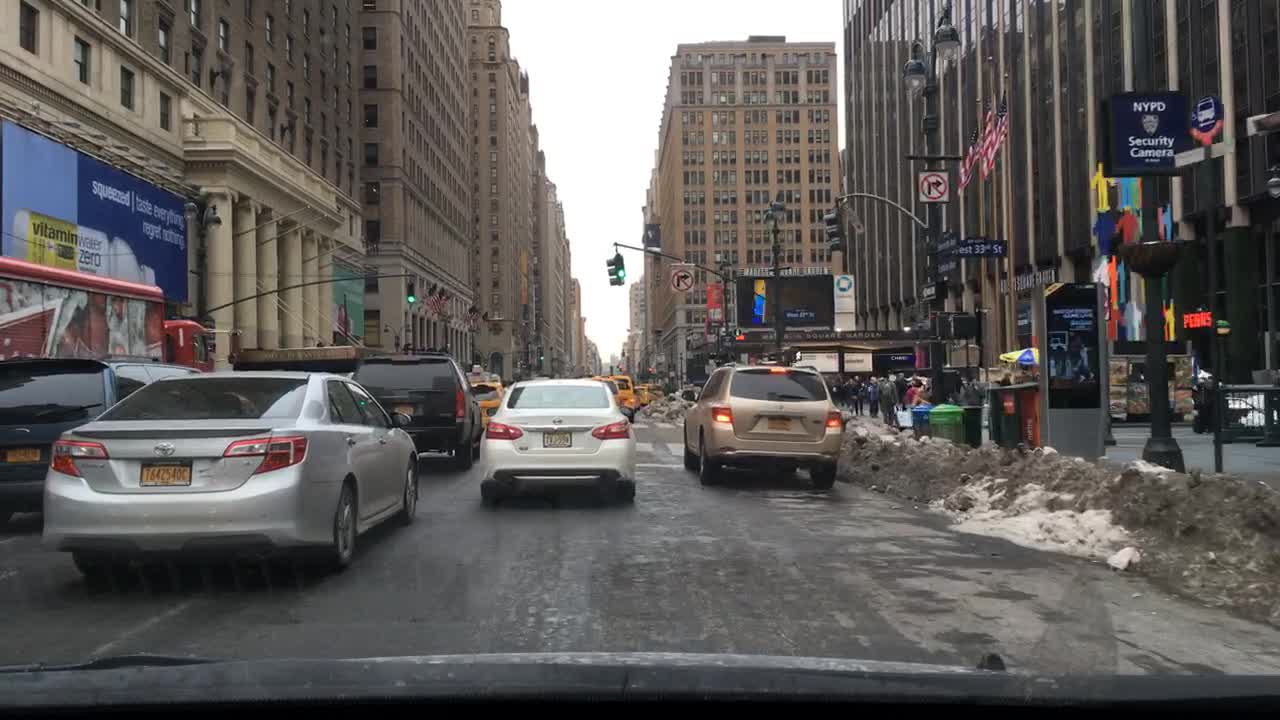car: (36, 368, 420, 576), (0, 354, 204, 531), (680, 366, 845, 490), (477, 375, 637, 501), (351, 354, 486, 464), (466, 364, 509, 427), (581, 370, 631, 415), (612, 371, 641, 414), (632, 385, 653, 408), (642, 381, 665, 396)
person: (907, 376, 923, 432), (845, 371, 865, 415), (882, 373, 897, 427), (867, 374, 880, 419), (892, 370, 904, 405), (832, 374, 842, 403)
traffic light: (821, 207, 847, 254), (929, 311, 952, 338), (949, 316, 977, 335), (603, 257, 620, 286), (613, 252, 626, 284), (404, 280, 416, 306), (782, 349, 802, 361), (535, 347, 543, 360)
traffic sign: (1190, 93, 1225, 139), (915, 168, 949, 207), (930, 227, 970, 257), (948, 240, 1011, 258), (667, 262, 693, 291), (845, 208, 868, 235), (918, 281, 940, 301)
truck: (0, 257, 217, 373)
